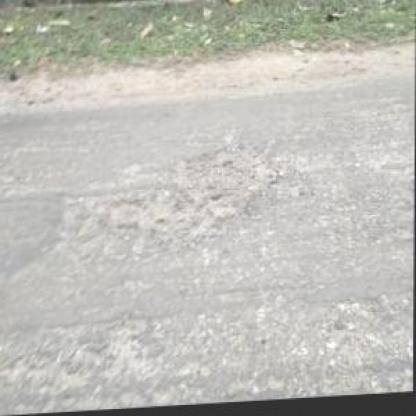pothole: (108, 138, 280, 247)
